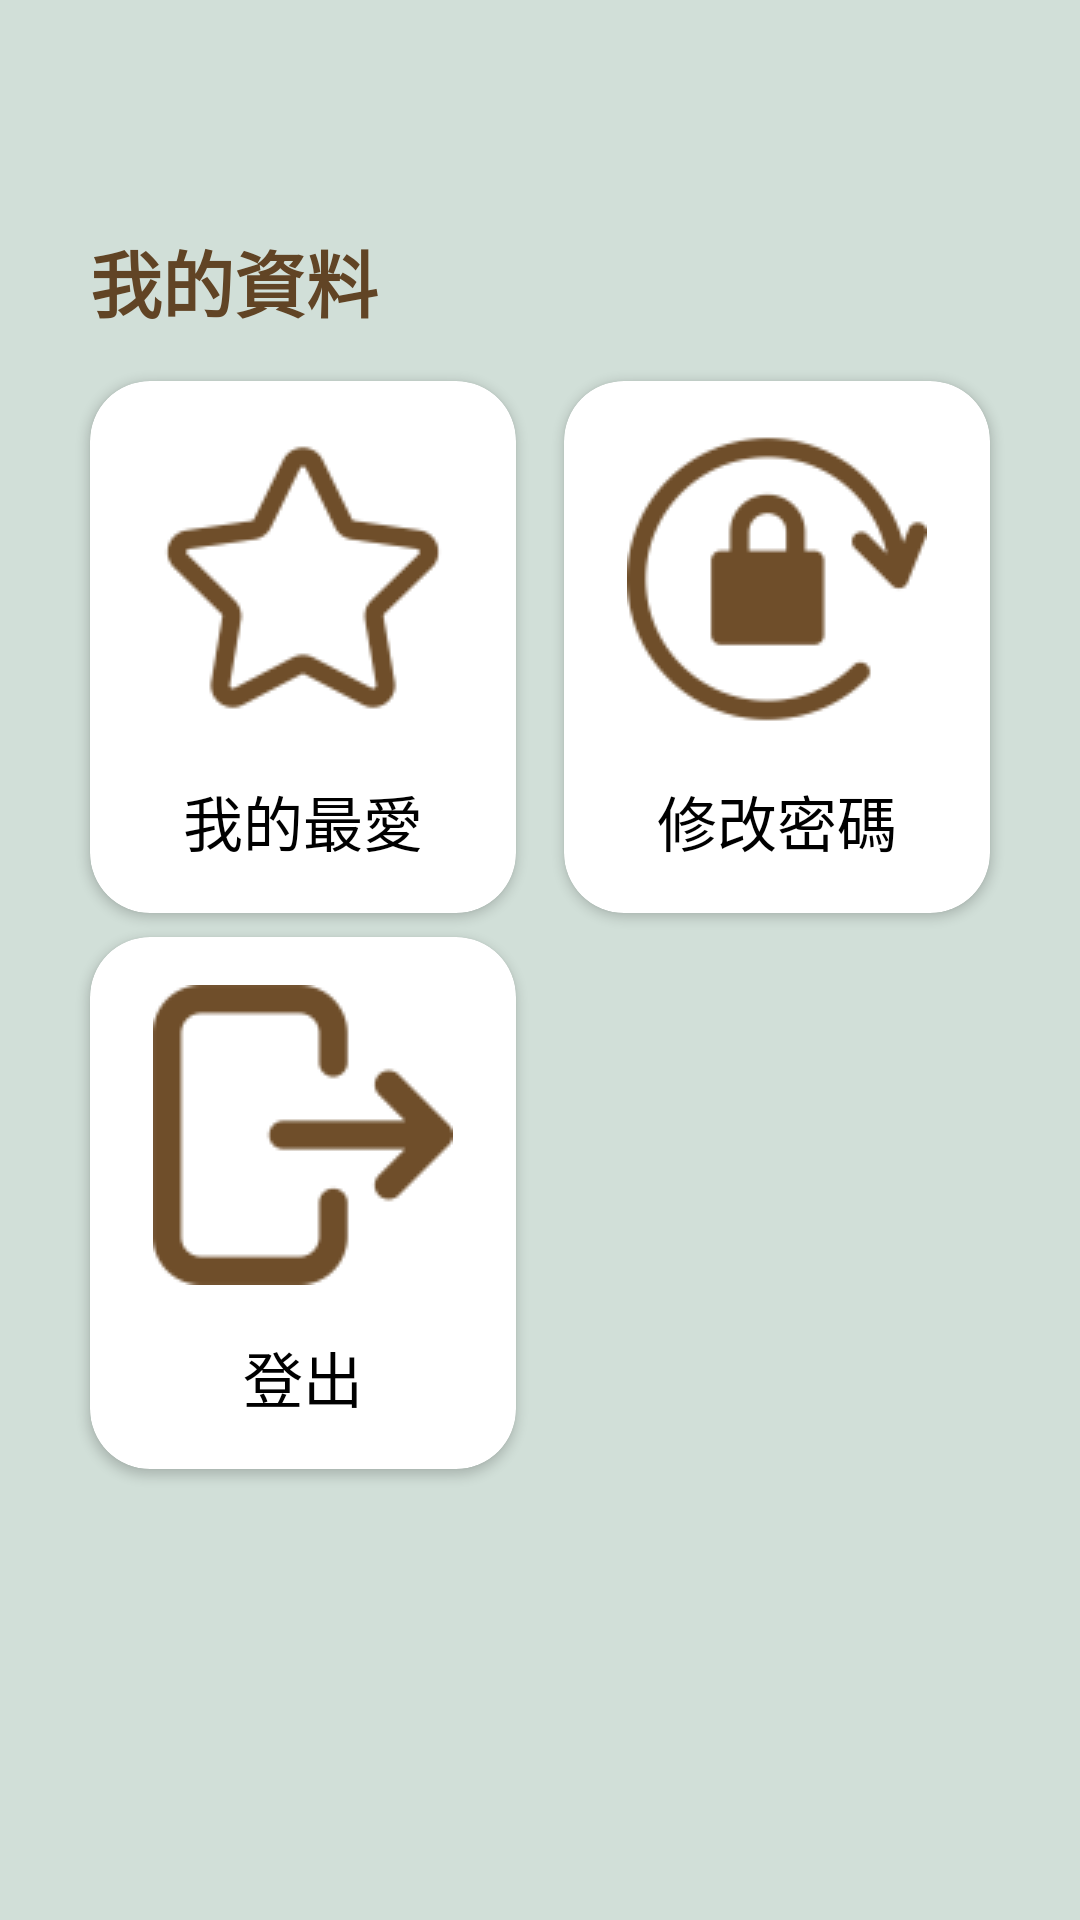

Icons on this 1080px×1920px Android screen, each with its box as (x1, y1, x2, y2):
star: (167, 446, 439, 709)
